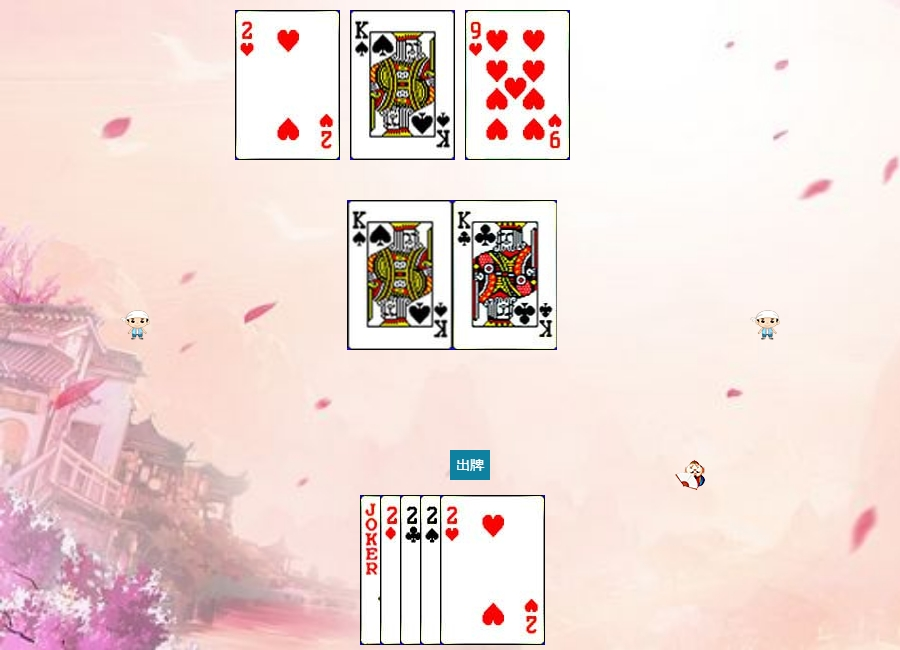13~2: (453, 200, 558, 350)
13~4: (350, 10, 455, 160), (348, 200, 453, 350)
15~1: (380, 495, 485, 645)
15~2: (400, 495, 505, 645)
15~3: (235, 10, 340, 160), (440, 495, 545, 645)
15~4: (420, 495, 525, 645)
18~4: (360, 495, 465, 645)
9~3: (465, 10, 570, 160)
